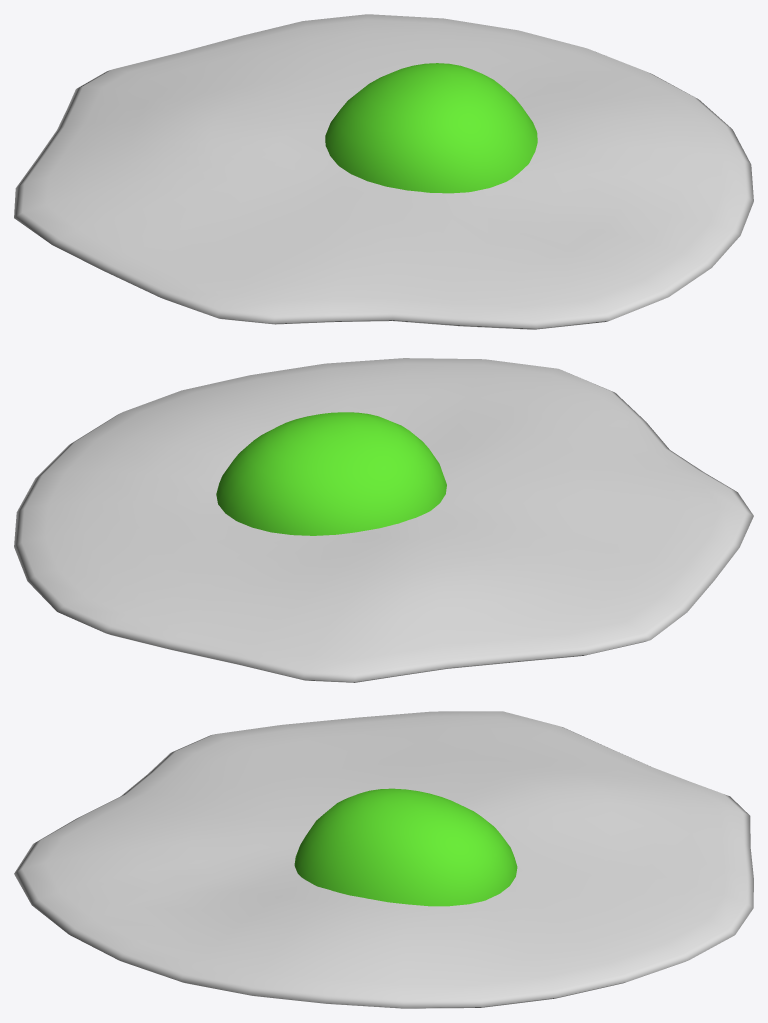
The model's file is EGG.fbx.
3 renders of one model, top to bottom at view 1: azimuth 30°, elevation 25°; view 2: azimuth 150°, elevation 25°; view 3: azimuth 270°, elevation 25°, orthographic. The views are drawn at different scales.
Parts seen in each view (by area): view 1: Sphere.001, Sphere; view 2: Sphere.001, Sphere; view 3: Sphere.001, Sphere.
Boxes of the visible parts, box(x1,y1,x2,y2) form: Sphere.001: box(14, 14, 753, 329); Sphere: box(325, 63, 537, 193); Sphere.001: box(14, 358, 753, 682); Sphere: box(216, 412, 446, 535); Sphere.001: box(14, 711, 753, 1008); Sphere: box(294, 788, 517, 906).
Bounding box in the file's own units: 6 × 6.3 × 1.
